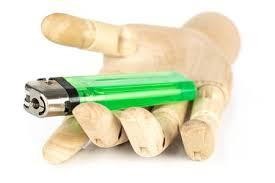lighter: (23, 75, 197, 122)
